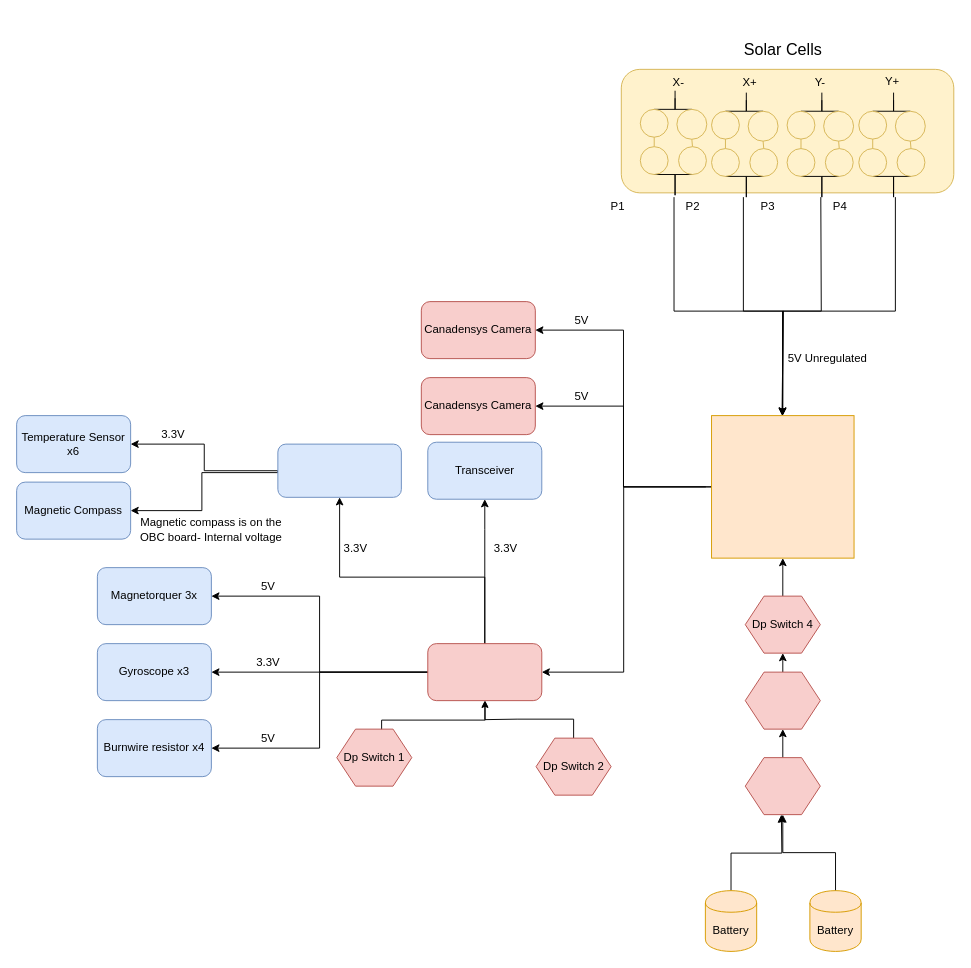
The diagram is 971 pixels wide and 968 high, and some of its shapes have lost their labels. Here are the shapes that lost their labels. From the top down, the centre of each, then its label:
the point at 339,470: OBC
the point at 782,486: EnduroSat Electrical Power Supply Unit
the point at 484,672: 30 Minute Timer, Latching logic, Load switches
the point at 782,700: Dp Switch 3
the point at 782,786: remove before flight switch
